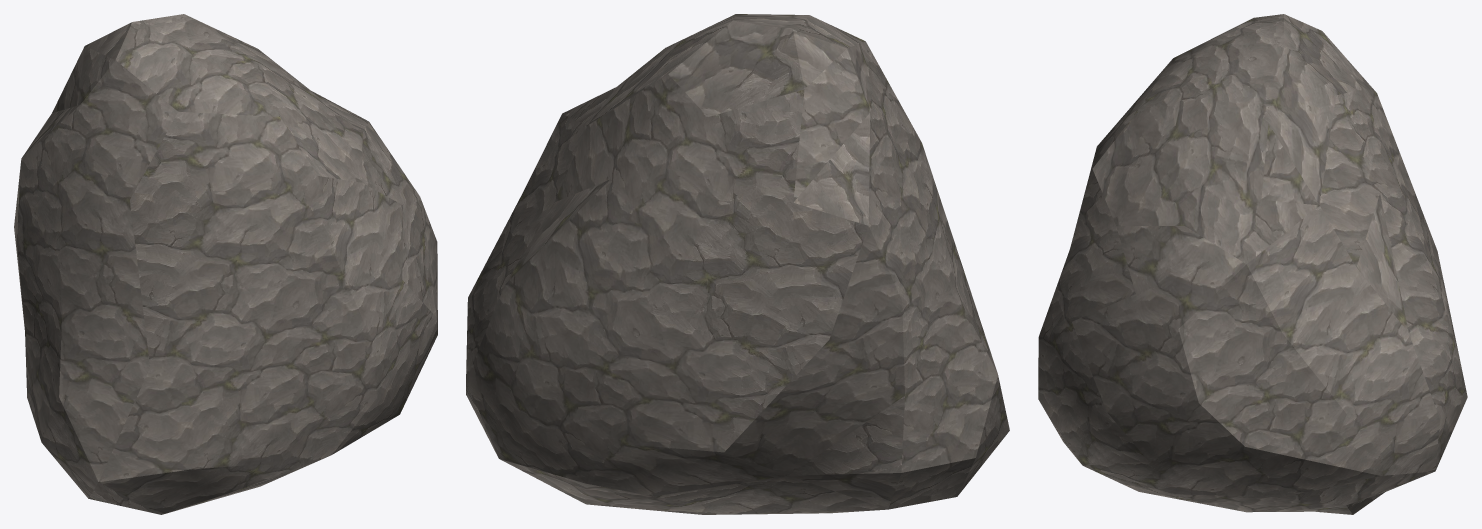
Rendered from grock_g.glb.
3 renders of one model, left to right at view 1: azimuth 30°, elevation 25°; view 2: azimuth 150°, elevation 25°; view 3: azimuth 270°, elevation 25°, orthographic. The views are drawn at different scales.
Visible parts, largest first — view 1: model; view 2: model; view 3: model.
Part boxes in pixels (x1,y1,x2,y2): model: [14, 14, 437, 514]; model: [466, 14, 1009, 514]; model: [1038, 14, 1467, 514].
Size of the model in its own units: 1.85 by 2 by 1.74.
Materials: 1 (1 with a texture image).
